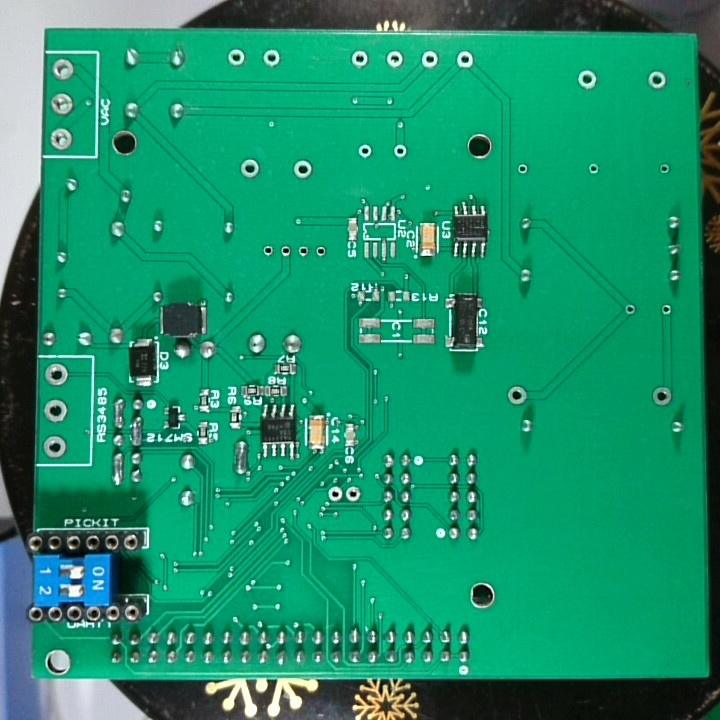F: (49, 55, 77, 83), (42, 398, 71, 425), (48, 90, 75, 118), (48, 126, 75, 152), (44, 361, 71, 387), (42, 434, 68, 460), (649, 382, 674, 409), (238, 156, 262, 181), (504, 383, 527, 408), (348, 46, 371, 71), (575, 69, 599, 92), (454, 49, 477, 73), (260, 47, 282, 72), (645, 69, 668, 92), (225, 46, 247, 70), (291, 158, 315, 180), (419, 48, 440, 72), (384, 48, 405, 71), (345, 482, 362, 507), (325, 484, 344, 504), (355, 140, 374, 160), (585, 158, 602, 180), (391, 141, 409, 161), (622, 301, 639, 320), (515, 159, 531, 178), (656, 160, 671, 180), (659, 300, 674, 318), (260, 242, 275, 260), (313, 243, 328, 260), (296, 243, 310, 261), (278, 242, 292, 260)
P: (233, 438, 251, 478), (108, 449, 125, 487), (129, 412, 145, 448), (111, 395, 127, 429)
